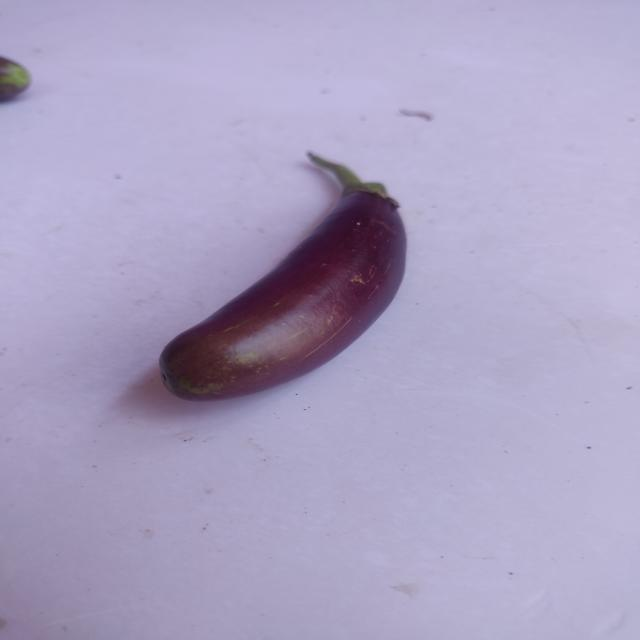Brinjal: (147, 144, 418, 414)
